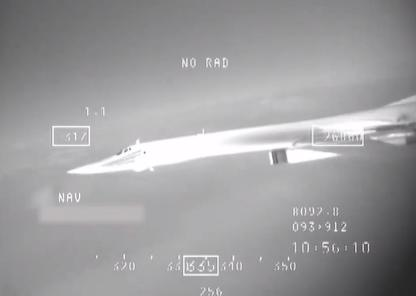Su34: (65, 94, 414, 174)
